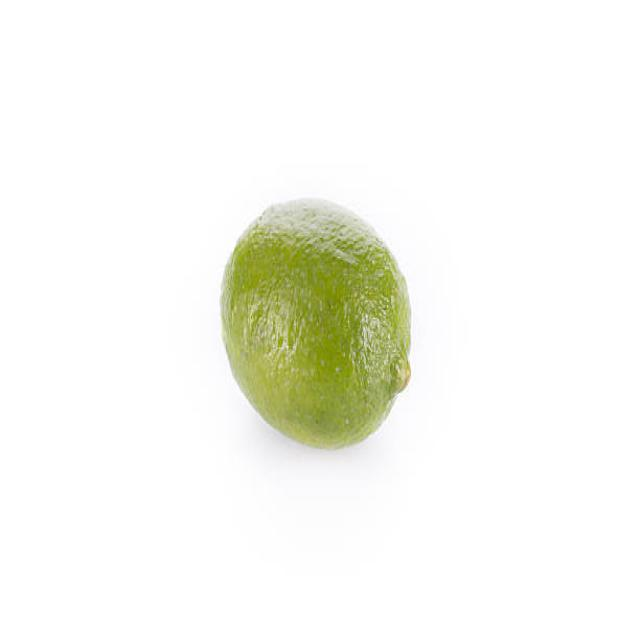Lemon: (217, 195, 414, 452)
